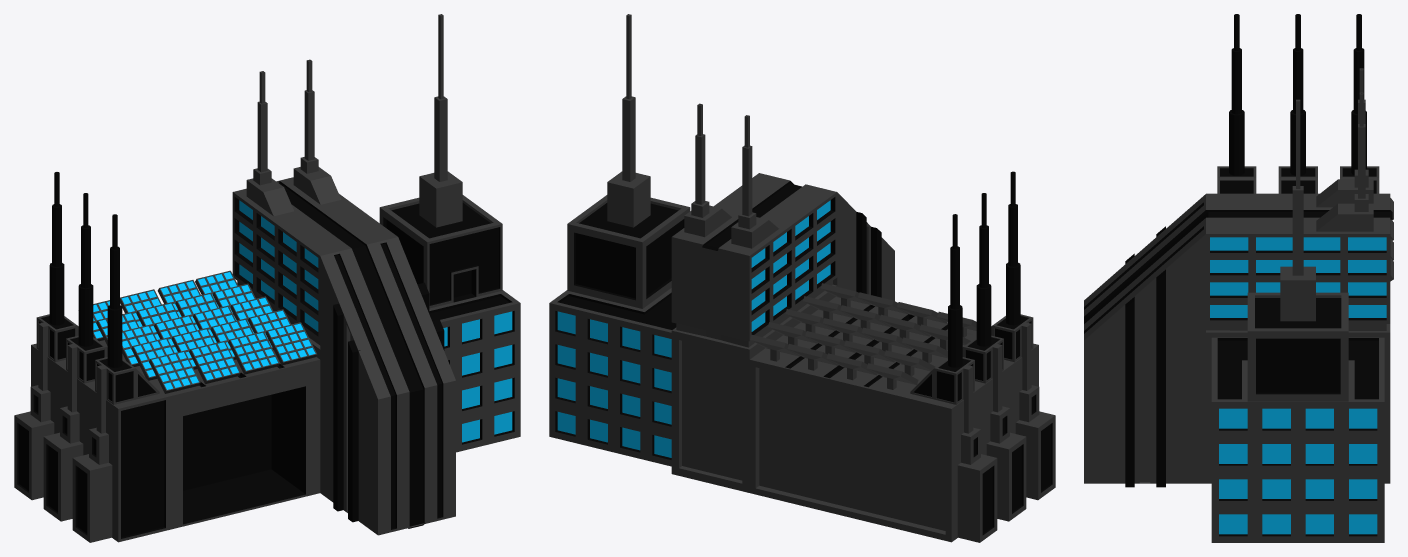
The model's file is MilitaryFabrick.fbx.
3 views of the same model, side by side, from view 1: azimuth 30°, elevation 25°; view 2: azimuth 150°, elevation 25°; view 3: azimuth 270°, elevation 25° (orthographic). The views are drawn at different scales.
Parts seen in each view (by area): view 1: Cube.001, Cube.003; view 2: Cube.001, Cube.003; view 3: Cube.001, Cube.003.
Part boxes in pixels (bbox=[...]): Cube.001: bbox=[14, 14, 520, 542]; Cube.003: bbox=[239, 200, 512, 442]; Cube.001: bbox=[549, 14, 1055, 542]; Cube.003: bbox=[557, 200, 830, 457]; Cube.001: bbox=[1084, 14, 1393, 542]; Cube.003: bbox=[1210, 237, 1386, 534].
Size of the model in its own units: 8.24 by 7.52 by 4.91.
